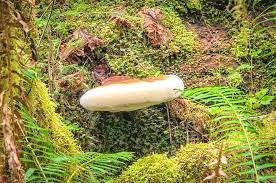Ganoderma - Fruit Body: (77, 74, 186, 114)
